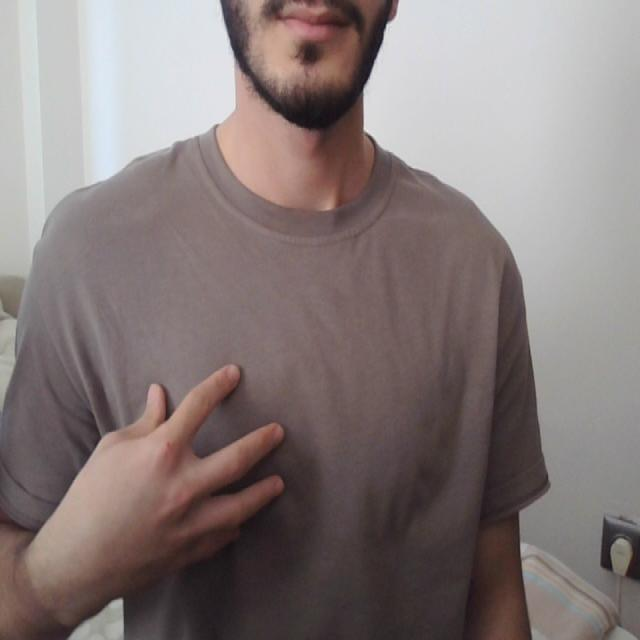Anne: (62, 339, 465, 587)
